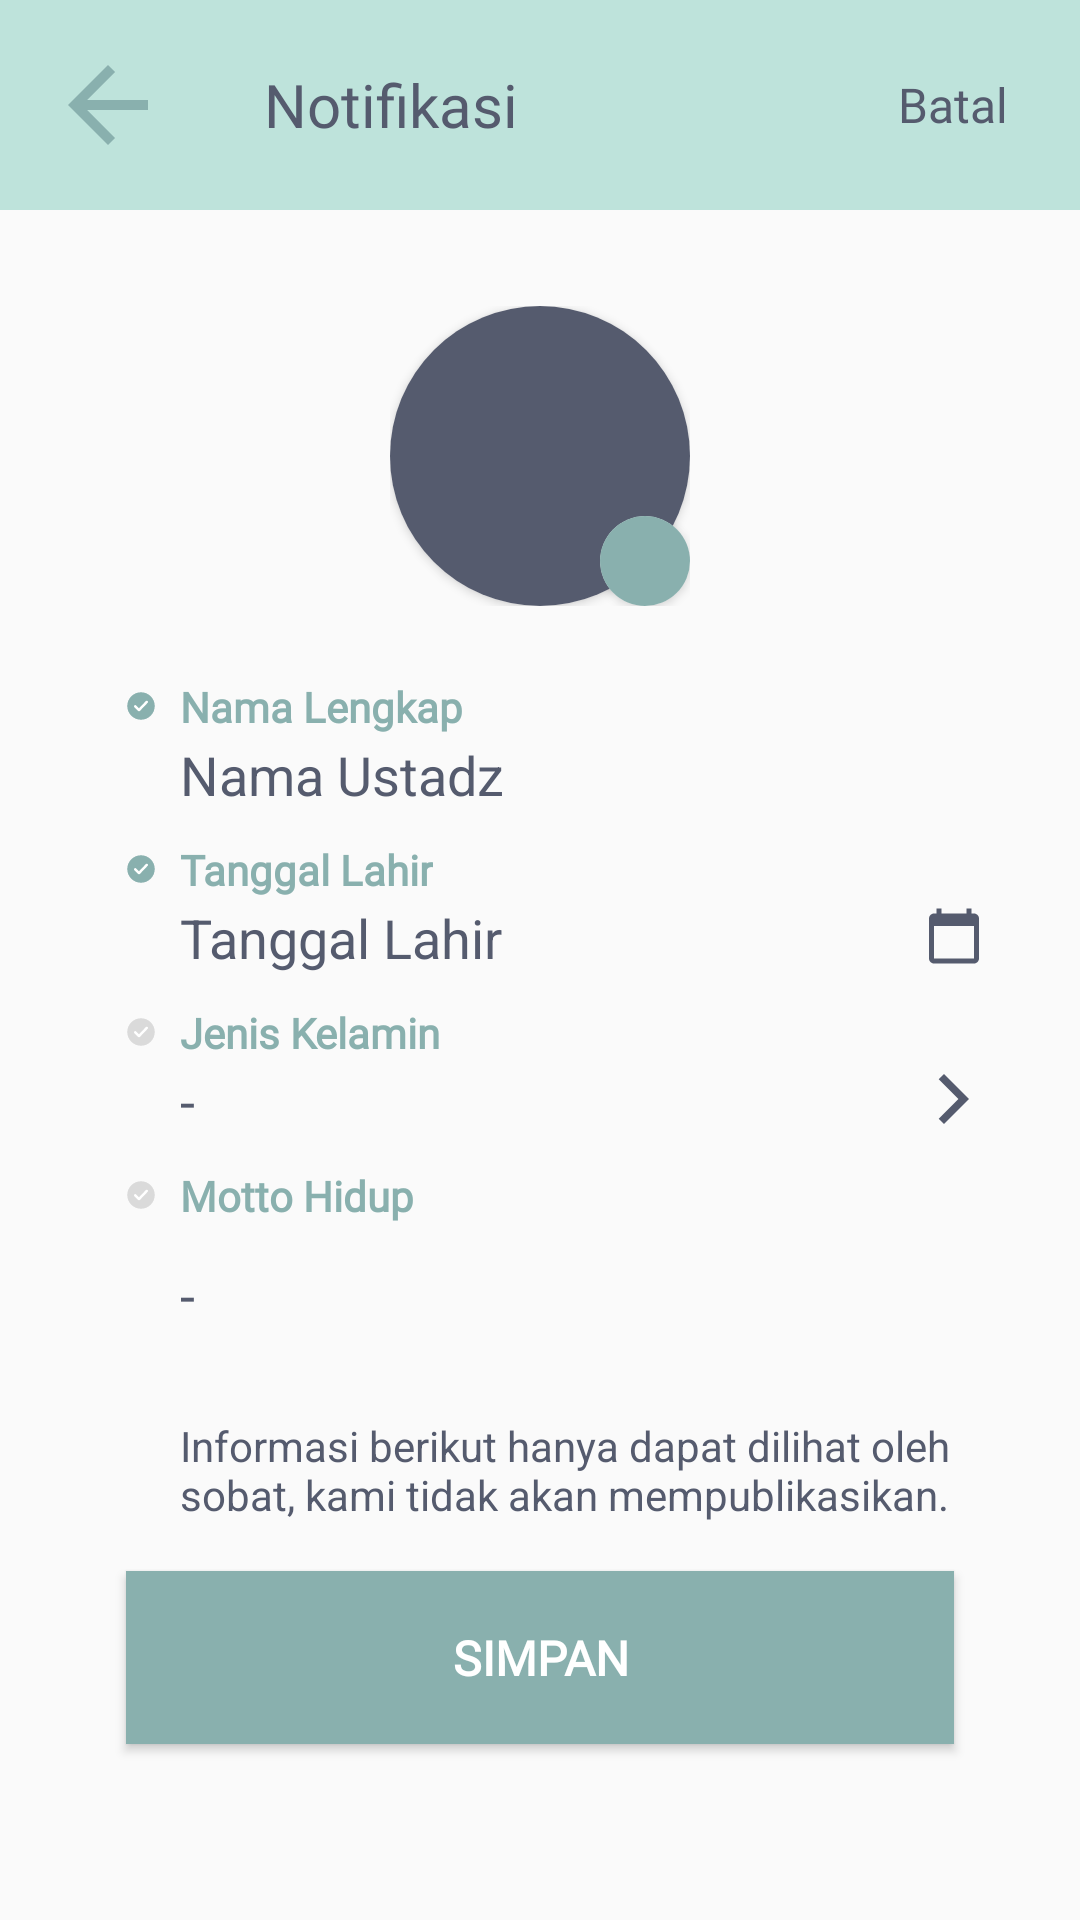

Point at icon controls on the screen. Image size 1080*1920, points as point (x, y).
arrow forward: point (954, 1099)
back arrow: point (108, 105)
calendar: point (954, 936)
